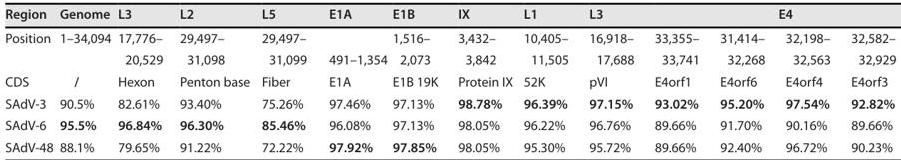table: (4, 5, 895, 154)
table column: (170, 5, 255, 154), (317, 5, 389, 154), (447, 5, 517, 154), (643, 5, 709, 154), (774, 5, 840, 154), (578, 5, 643, 154), (709, 5, 774, 154), (255, 5, 317, 154), (517, 5, 578, 154), (56, 5, 114, 154), (389, 5, 447, 154), (114, 5, 170, 154), (840, 5, 895, 154), (4, 5, 56, 154)
table column header: (4, 5, 895, 69)
table row: (4, 25, 895, 69), (4, 69, 895, 91), (4, 91, 895, 113), (4, 113, 895, 135), (4, 5, 895, 25), (4, 135, 895, 154)
table spanning cell: (170, 5, 255, 69), (643, 5, 895, 25), (317, 5, 389, 69), (447, 5, 517, 69), (578, 5, 643, 69), (255, 5, 317, 69), (517, 5, 578, 69), (56, 5, 114, 69), (389, 5, 447, 69), (114, 5, 170, 69), (4, 5, 56, 69)
